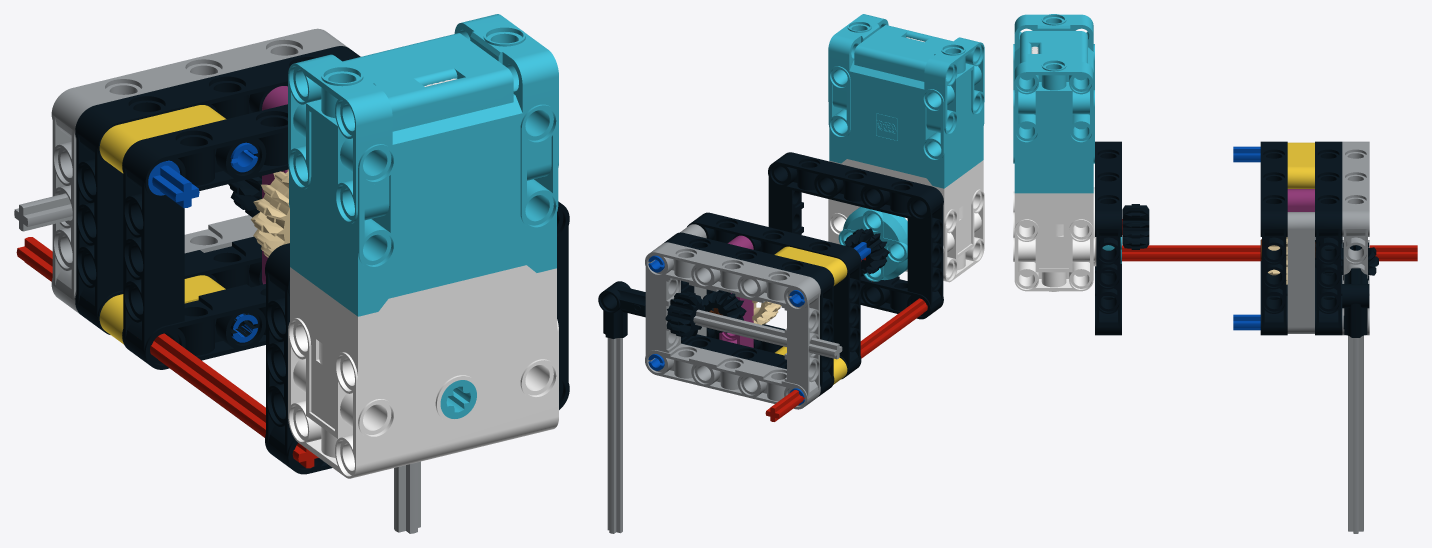
Rendered from Active Connector.dae.
3 views of the same model, side by side, from view 1: azimuth 30°, elevation 25°; view 2: azimuth 150°, elevation 25°; view 3: azimuth 270°, elevation 25° (orthographic). The views are drawn at different scales.
Visible parts, largest first — view 1: Inner-Node-Active__Connector_dot_io-0, Inner-Node-Active__Connector_dot_io-8, Inner-Node-Active__Connector_dot_io-13, Inner-Node-Active__Connector_dot_io-22, Inner-Node-Active__Connector_dot_io-3, Inner-Node-Active__Connector_dot_io-4, Inner-Node-Active__Connector_dot_io-6, Inner-Node-Active__Connector_dot_io-20, Inner-Node-Active__Connector_dot_io-28, Inner-Node-Active__Connector_dot_io-5, Inner-Node-Active__Connector_dot_io-24, Inner-Node-Active__Connector_dot_io-26 (+3 smaller); view 2: Inner-Node-Active__Connector_dot_io-0, Inner-Node-Active__Connector_dot_io-22, Inner-Node-Active__Connector_dot_io-3, Inner-Node-Active__Connector_dot_io-8, Inner-Node-Active__Connector_dot_io-13, Inner-Node-Active__Connector_dot_io-28, Inner-Node-Active__Connector_dot_io-24, Inner-Node-Active__Connector_dot_io-25, Inner-Node-Active__Connector_dot_io-4, Inner-Node-Active__Connector_dot_io-23, Inner-Node-Active__Connector_dot_io-2, Inner-Node-Active__Connector_dot_io-6 (+3 smaller); view 3: Inner-Node-Active__Connector_dot_io-0, Inner-Node-Active__Connector_dot_io-8, Inner-Node-Active__Connector_dot_io-13, Inner-Node-Active__Connector_dot_io-3, Inner-Node-Active__Connector_dot_io-22, Inner-Node-Active__Connector_dot_io-7, Inner-Node-Active__Connector_dot_io-28, Inner-Node-Active__Connector_dot_io-4, Inner-Node-Active__Connector_dot_io-25, Inner-Node-Active__Connector_dot_io-6, Inner-Node-Active__Connector_dot_io-2, Inner-Node-Active__Connector_dot_io-18 (+2 smaller).
Part boxes in pixels (x1,y1,x2,y2): Inner-Node-Active__Connector_dot_io-0: (288, 14, 558, 478); Inner-Node-Active__Connector_dot_io-8: (122, 104, 288, 369); Inner-Node-Active__Connector_dot_io-13: (75, 46, 360, 334); Inner-Node-Active__Connector_dot_io-22: (51, 28, 348, 313); Inner-Node-Active__Connector_dot_io-3: (265, 201, 569, 474); Inner-Node-Active__Connector_dot_io-4: (16, 237, 318, 468); Inner-Node-Active__Connector_dot_io-6: (99, 105, 226, 173); Inner-Node-Active__Connector_dot_io-20: (250, 169, 289, 257); Inner-Node-Active__Connector_dot_io-28: (394, 461, 420, 533); Inner-Node-Active__Connector_dot_io-5: (99, 275, 225, 344); Inner-Node-Active__Connector_dot_io-24: (14, 193, 72, 231); Inner-Node-Active__Connector_dot_io-26: (148, 160, 199, 207); Inner-Node-Active__Connector_dot_io-0: (828, 14, 984, 282); Inner-Node-Active__Connector_dot_io-22: (645, 242, 820, 409); Inner-Node-Active__Connector_dot_io-3: (768, 152, 943, 319); Inner-Node-Active__Connector_dot_io-8: (687, 212, 861, 379); Inner-Node-Active__Connector_dot_io-13: (664, 232, 834, 396); Inner-Node-Active__Connector_dot_io-28: (607, 338, 622, 533); Inner-Node-Active__Connector_dot_io-24: (693, 309, 842, 359); Inner-Node-Active__Connector_dot_io-25: (598, 281, 645, 338); Inner-Node-Active__Connector_dot_io-4: (765, 298, 927, 421); Inner-Node-Active__Connector_dot_io-23: (665, 291, 704, 337); Inner-Node-Active__Connector_dot_io-2: (844, 228, 889, 274); Inner-Node-Active__Connector_dot_io-6: (774, 246, 847, 285); Inner-Node-Active__Connector_dot_io-0: (1013, 14, 1121, 291); Inner-Node-Active__Connector_dot_io-8: (1260, 141, 1287, 335); Inner-Node-Active__Connector_dot_io-13: (1315, 141, 1342, 335); Inner-Node-Active__Connector_dot_io-3: (1095, 141, 1121, 335); Inner-Node-Active__Connector_dot_io-22: (1342, 141, 1369, 335); Inner-Node-Active__Connector_dot_io-7: (1287, 212, 1314, 333); Inner-Node-Active__Connector_dot_io-28: (1348, 335, 1363, 533); Inner-Node-Active__Connector_dot_io-4: (1122, 245, 1417, 261); Inner-Node-Active__Connector_dot_io-25: (1342, 268, 1369, 337); Inner-Node-Active__Connector_dot_io-6: (1287, 142, 1314, 188); Inner-Node-Active__Connector_dot_io-2: (1122, 204, 1149, 249); Inner-Node-Active__Connector_dot_io-18: (1287, 189, 1314, 211).
Bounding box in the file's own units: 199 × 339 × 297.
